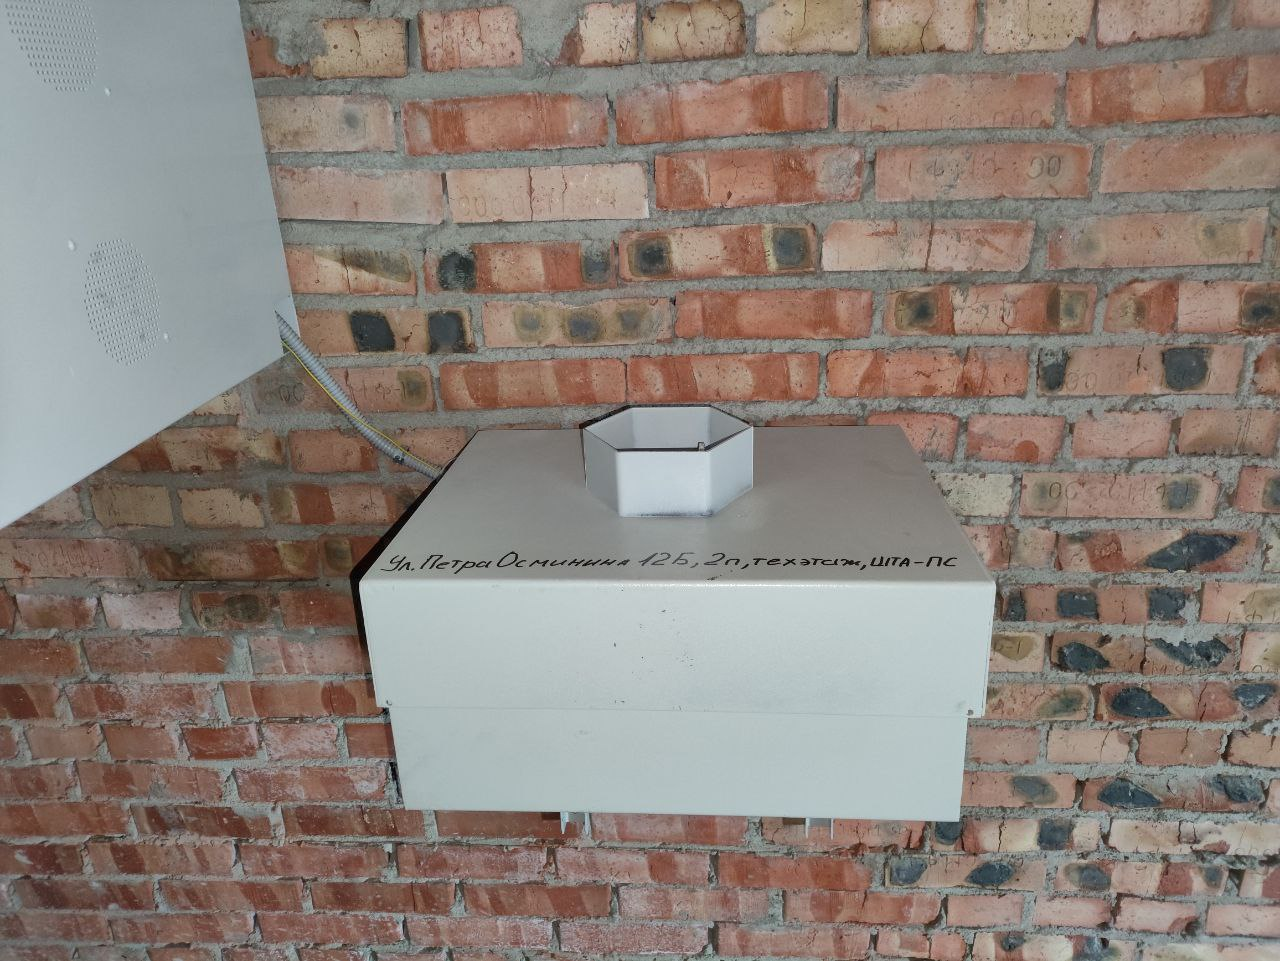shta-ps: (349, 397, 1008, 826)
